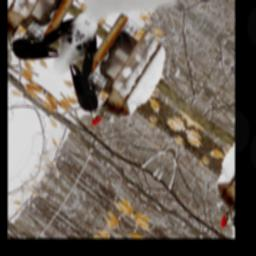Woodpecker: (50, 36, 131, 130)
